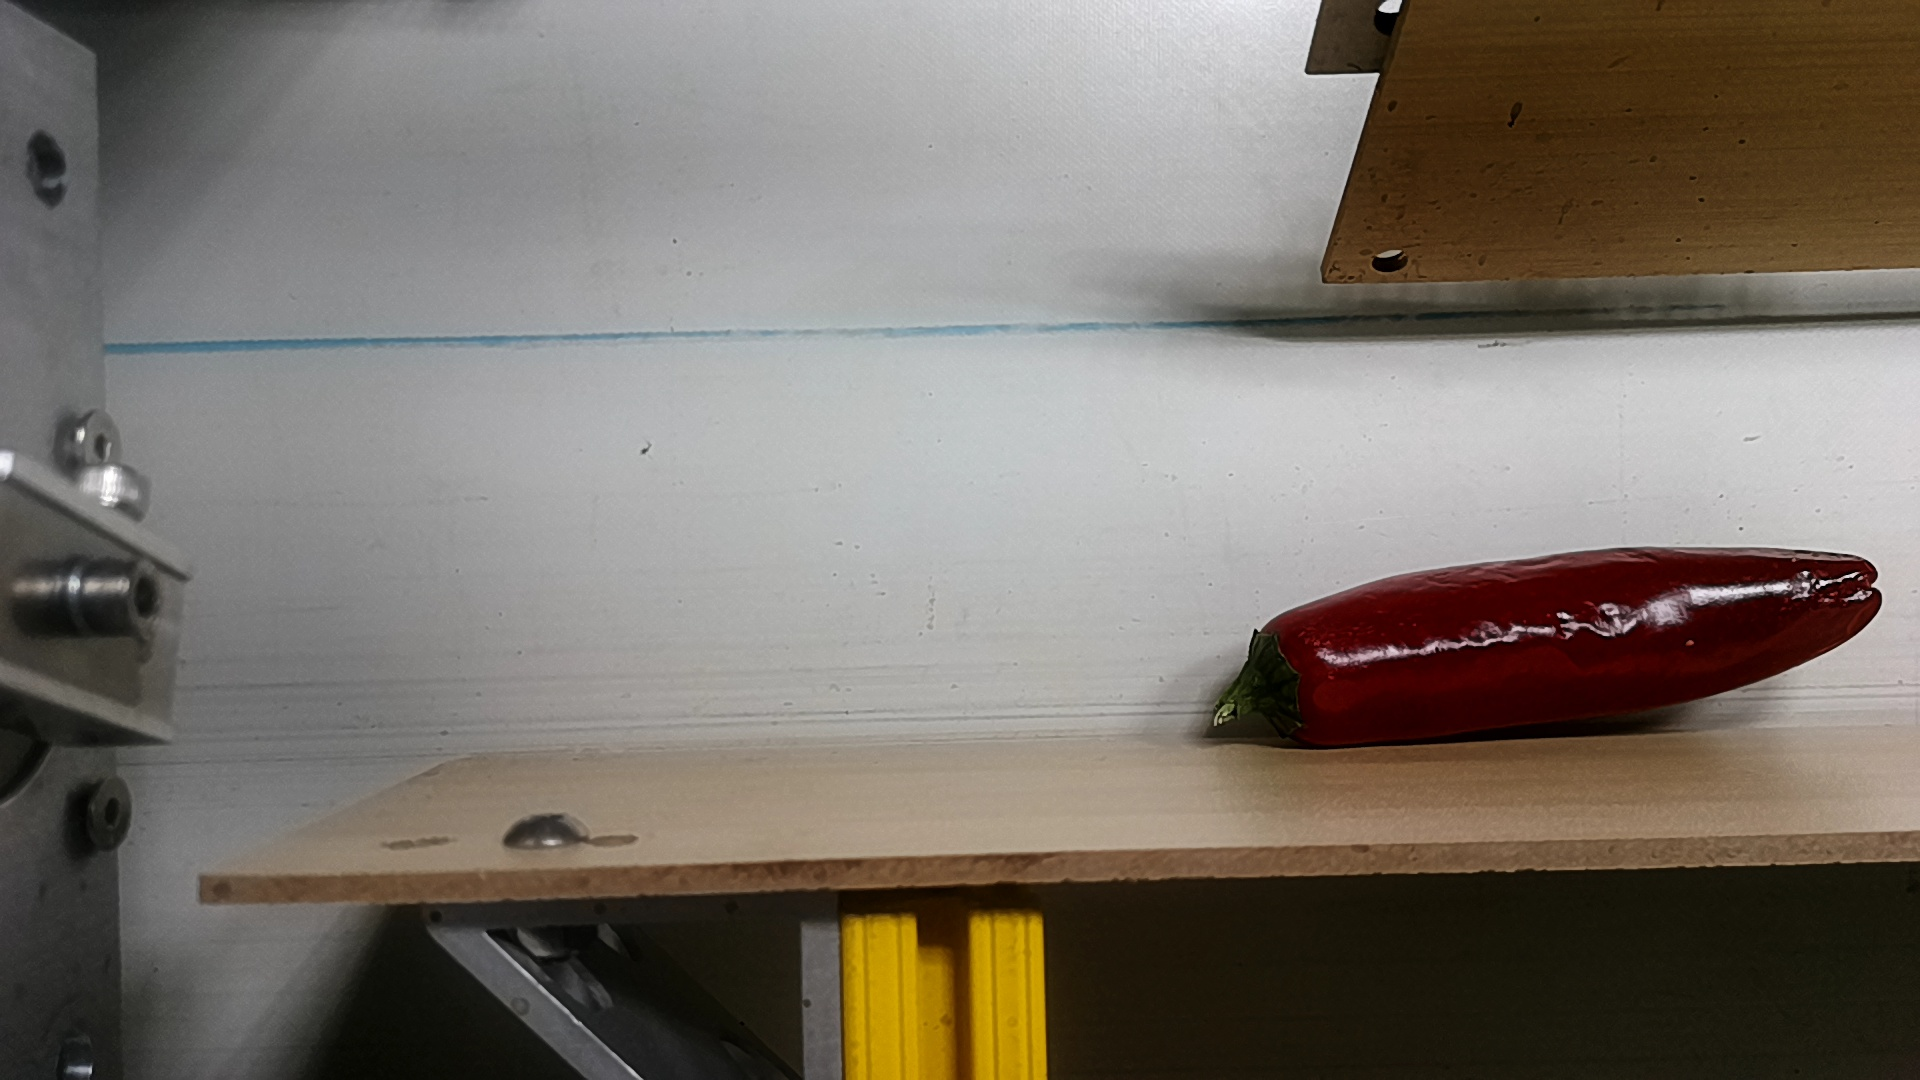Cut Point: (1233, 601, 1346, 749)
